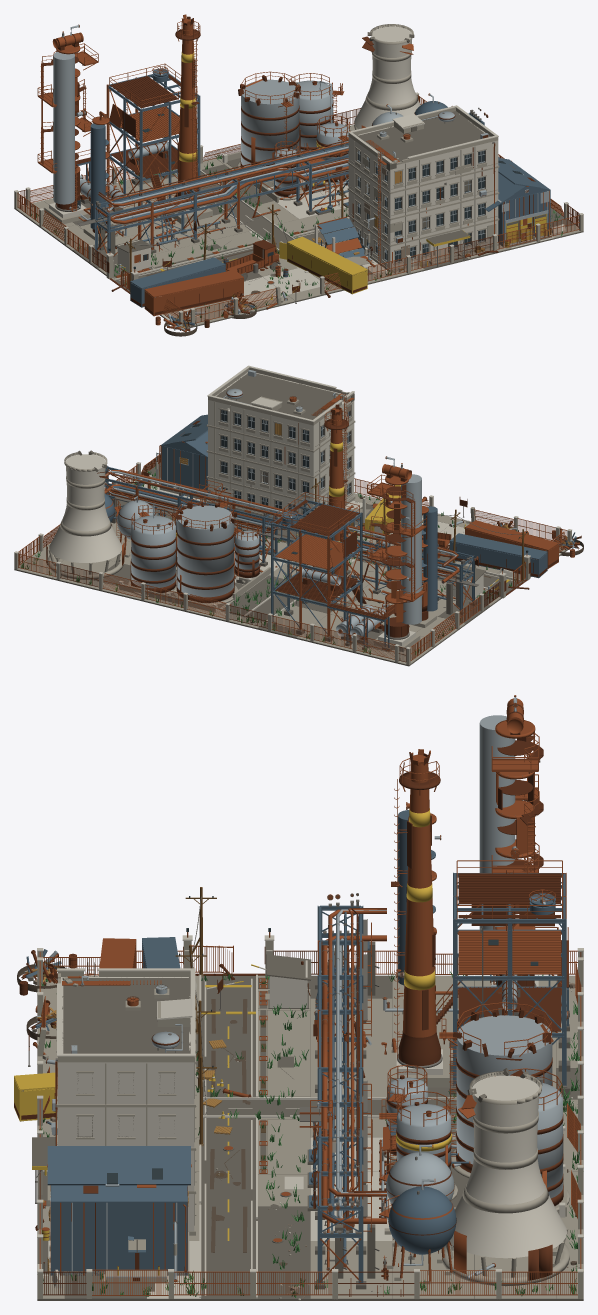
File: ChemPlant.fbx
The picture shows the model from 3 angles, top to bottom: view 1: azimuth 30°, elevation 25°; view 2: azimuth 150°, elevation 25°; view 3: azimuth 270°, elevation 25°; orthographic projection. The views are drawn at different scales.
Visible parts, largest first — view 1: ChemPlant_Building, ChemPlant_Site, ChemPlant_Towers, ChemPlant_Tanks, ChemPlant_Props, ChemPlant_Pipes; view 2: ChemPlant_Site, ChemPlant_Towers, ChemPlant_Building, ChemPlant_Tanks, ChemPlant_Pipes, ChemPlant_Props; view 3: ChemPlant_Site, ChemPlant_Building, ChemPlant_Tanks, ChemPlant_Towers, ChemPlant_Pipes, ChemPlant_Props.
Part boxes in pixels (x1,y1,x2,y2): ChemPlant_Building: (347, 105, 551, 272); ChemPlant_Site: (14, 92, 583, 328); ChemPlant_Towers: (37, 14, 212, 240); ChemPlant_Tanks: (222, 24, 447, 202); ChemPlant_Props: (111, 187, 375, 336); ChemPlant_Pipes: (77, 106, 488, 262); ChemPlant_Site: (14, 455, 571, 666); ChemPlant_Towers: (267, 404, 437, 651); ChemPlant_Building: (154, 365, 355, 518); ChemPlant_Tanks: (46, 450, 270, 612); ChemPlant_Pipes: (104, 466, 478, 614); ChemPlant_Props: (311, 478, 583, 589); ChemPlant_Site: (37, 928, 583, 1300); ChemPlant_Building: (32, 962, 196, 1282); ChemPlant_Tanks: (379, 1002, 569, 1286); ChemPlant_Towers: (381, 695, 570, 1094); ChemPlant_Pipes: (299, 893, 386, 1289); ChemPlant_Props: (14, 887, 251, 1146).
Size of the model in its own units: 5820 by 2645 by 4175.
